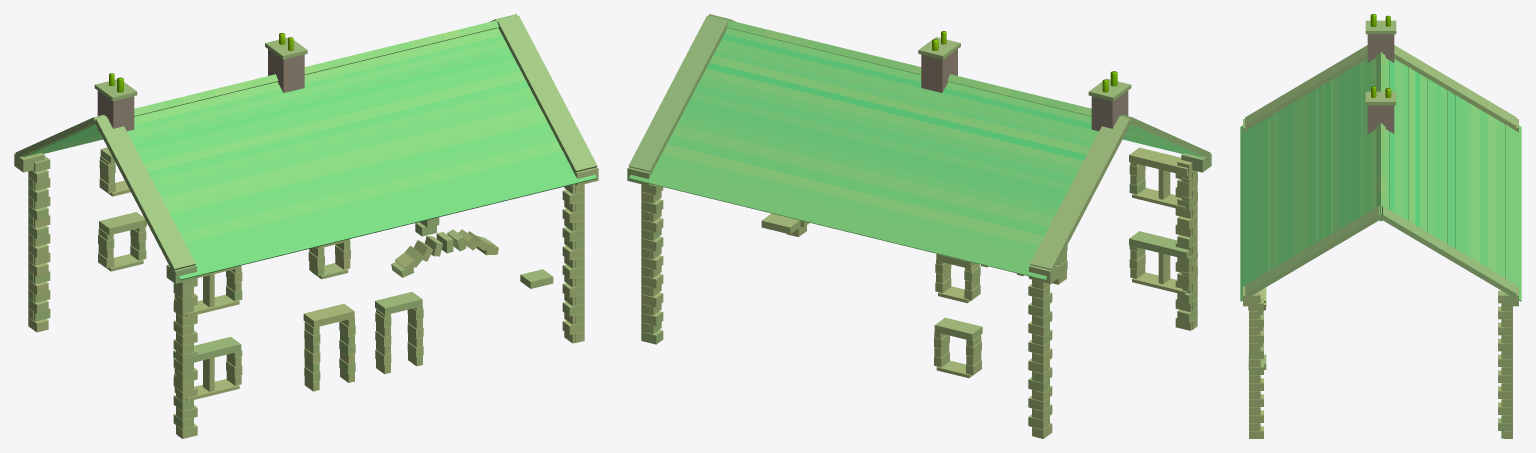
Rendered from SM_Bld_232_Stone.glb.
3 renders of one model, left to right at view 1: azimuth 30°, elevation 25°; view 2: azimuth 150°, elevation 25°; view 3: azimuth 270°, elevation 25°, orthographic. The views are drawn at different scales.
Parts seen in each view (by area): view 1: SM_Bld_232_Stone; view 2: SM_Bld_232_Stone; view 3: SM_Bld_232_Stone.
Boxes of the visible parts, x1,y1,x2,y2 form: SM_Bld_232_Stone: (14, 14, 598, 438); SM_Bld_232_Stone: (627, 14, 1211, 438); SM_Bld_232_Stone: (1240, 14, 1521, 438).
Size of the model in its own units: 14.23 by 9.78 by 9.58.
